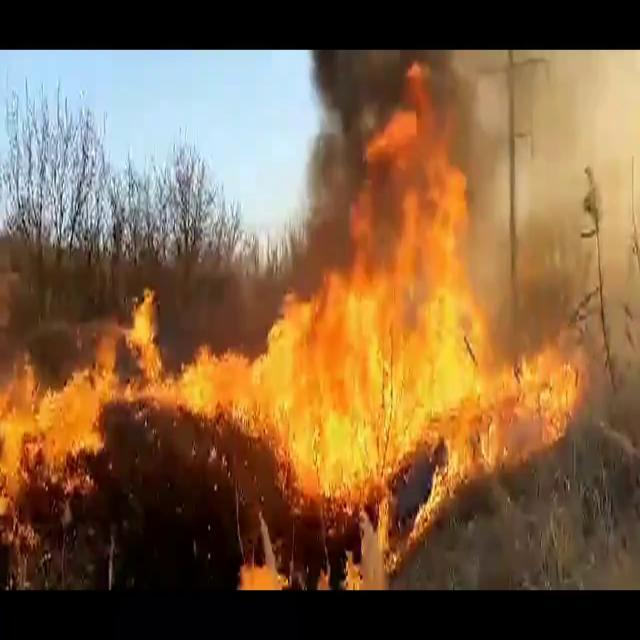Fire: (206, 86, 578, 542), (1, 347, 120, 516), (102, 289, 204, 411)
Smoke: (454, 49, 634, 345)
